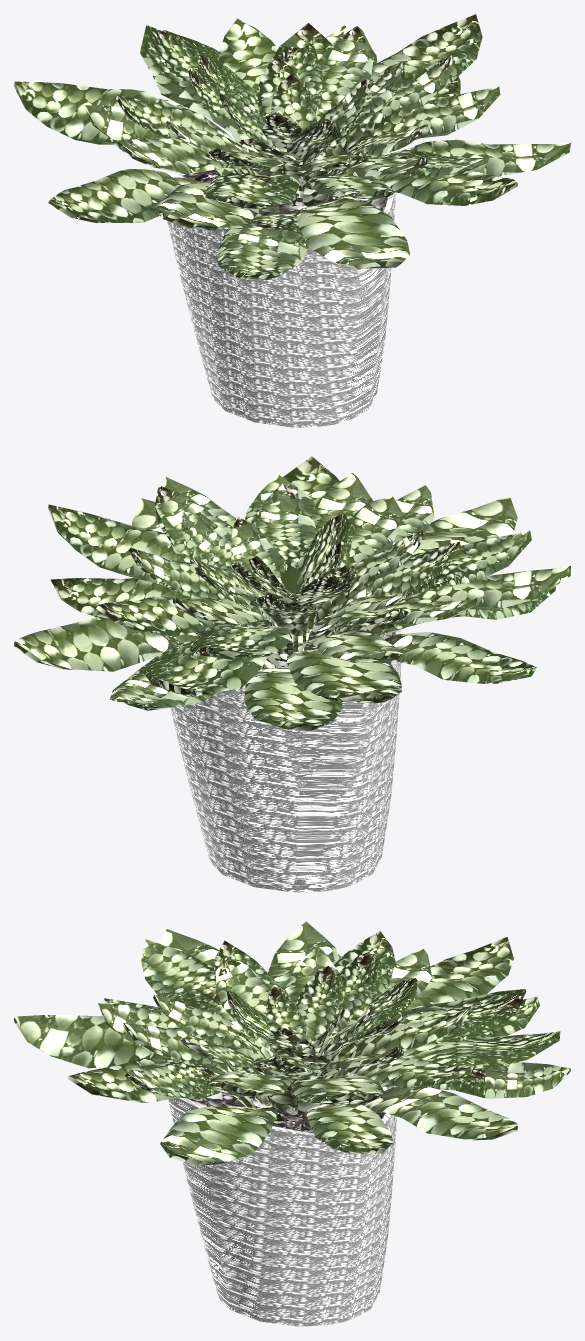
3 renders of one model, top to bottom at view 1: azimuth 30°, elevation 25°; view 2: azimuth 150°, elevation 25°; view 3: azimuth 270°, elevation 25°, orthographic. The views are drawn at different scales.
Parts seen in each view (by area): view 1: ZW02; view 2: ZW02; view 3: ZW02.
Boxes of the visible parts, x1,y1,x2,y2 form: ZW02: (14,14,570,427); ZW02: (14,456,570,892); ZW02: (14,921,570,1326).
Size of the model in its own units: 5201 by 5684 by 3478.
Materials: 3 (2 with a texture image).
